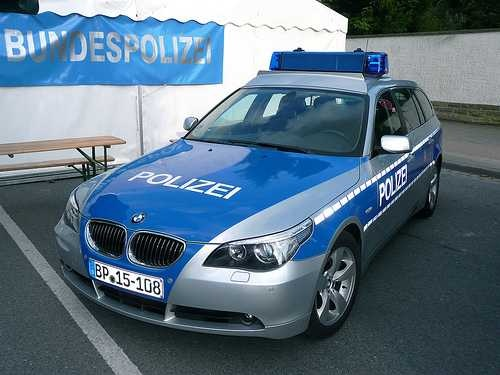Police Car: (52, 28, 452, 348)
